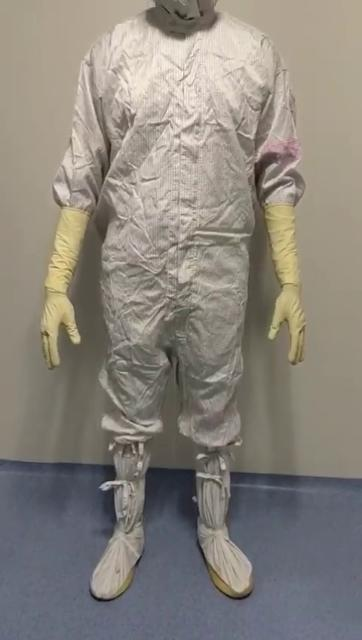boot_secured: (182, 420, 264, 602), (82, 418, 154, 612)
gloves_fitted_securely: (247, 184, 319, 368), (34, 194, 98, 376)
zip_secured: (160, 28, 206, 304)
